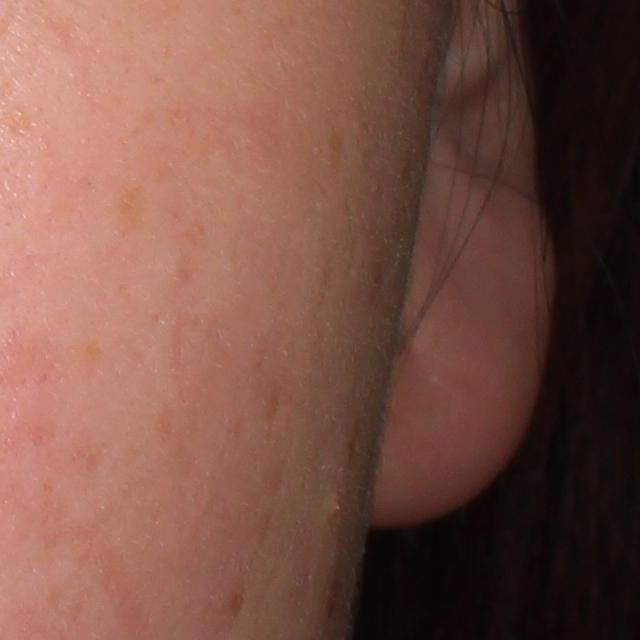melasma: (111, 180, 152, 239)
